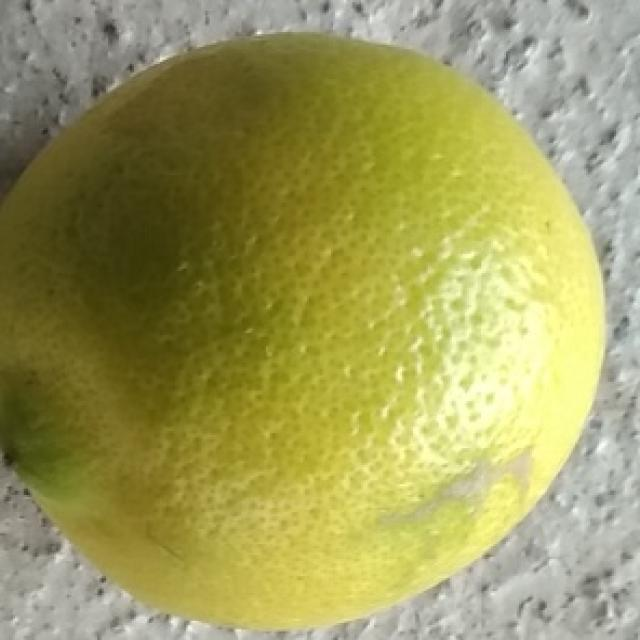Lemon: (0, 32, 611, 633)
